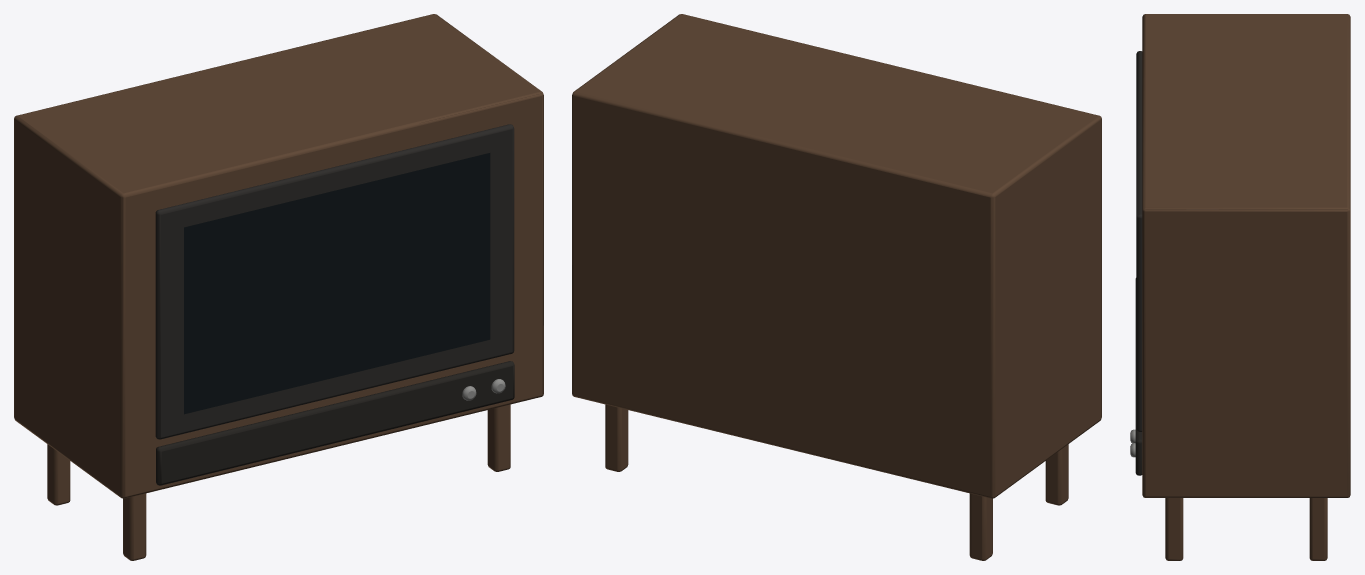
Rendered from SM_L_TV_Console.gltf.
3 renders of one model, left to right at view 1: azimuth 30°, elevation 25°; view 2: azimuth 150°, elevation 25°; view 3: azimuth 270°, elevation 25°, orthographic. The views are drawn at different scales.
Visible parts, largest first — view 1: SM_L_TV_Console_LookDev02__Body, SM_L_TV_Console_LookDev02__Screen; view 2: SM_L_TV_Console_LookDev02__Body; view 3: SM_L_TV_Console_LookDev02__Body.
Boxes of the visible parts, x1,y1,x2,y2 form: SM_L_TV_Console_LookDev02__Body: [14, 14, 543, 560]; SM_L_TV_Console_LookDev02__Screen: [184, 153, 490, 414]; SM_L_TV_Console_LookDev02__Body: [572, 14, 1101, 560]; SM_L_TV_Console_LookDev02__Body: [1130, 14, 1350, 560].
Size of the model in its own units: 1.16 by 1 by 0.55.
5 materials, 4 textured.
